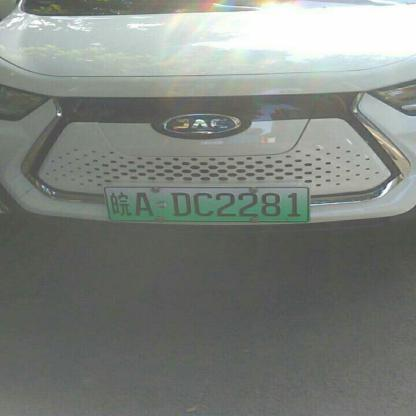lp: (105, 186, 308, 221)
